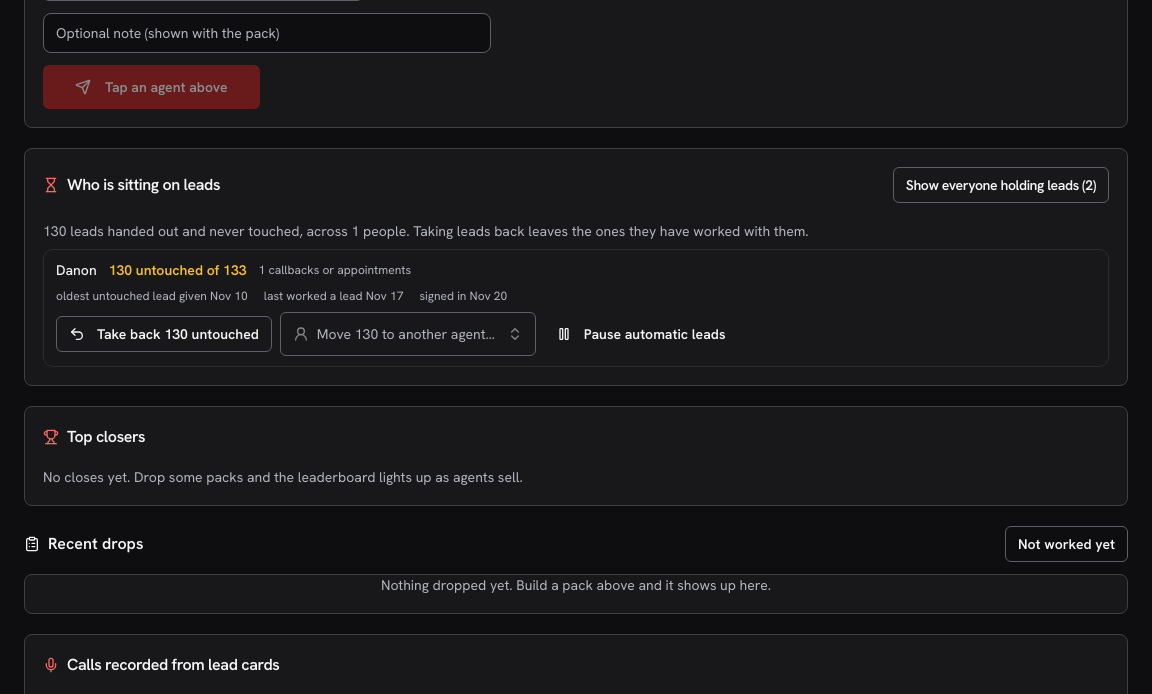
Lead Manager pools › lists who is sitting on untouched leads, worst first, and takes them back only after a second tap
(page scrolled)
Check: the number of elements with test id "holder-row" is 1, box [43,249,1109,367]
Check: the element with test id "holder-row" shows "Danon", box [56,261,97,279]
Click the button "Take back 130 untouched" at (164, 334), box [56,316,272,352]
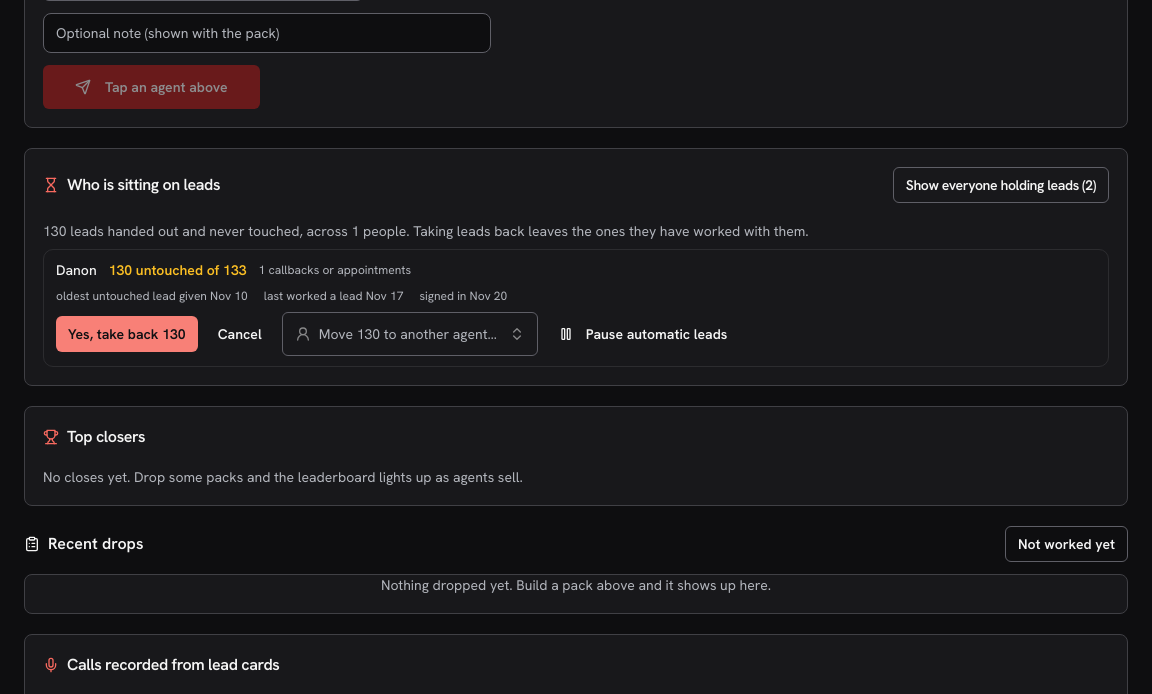
Click the button "Yes, take back 130" at (127, 334), box [56,316,198,352]
(page scrolled)
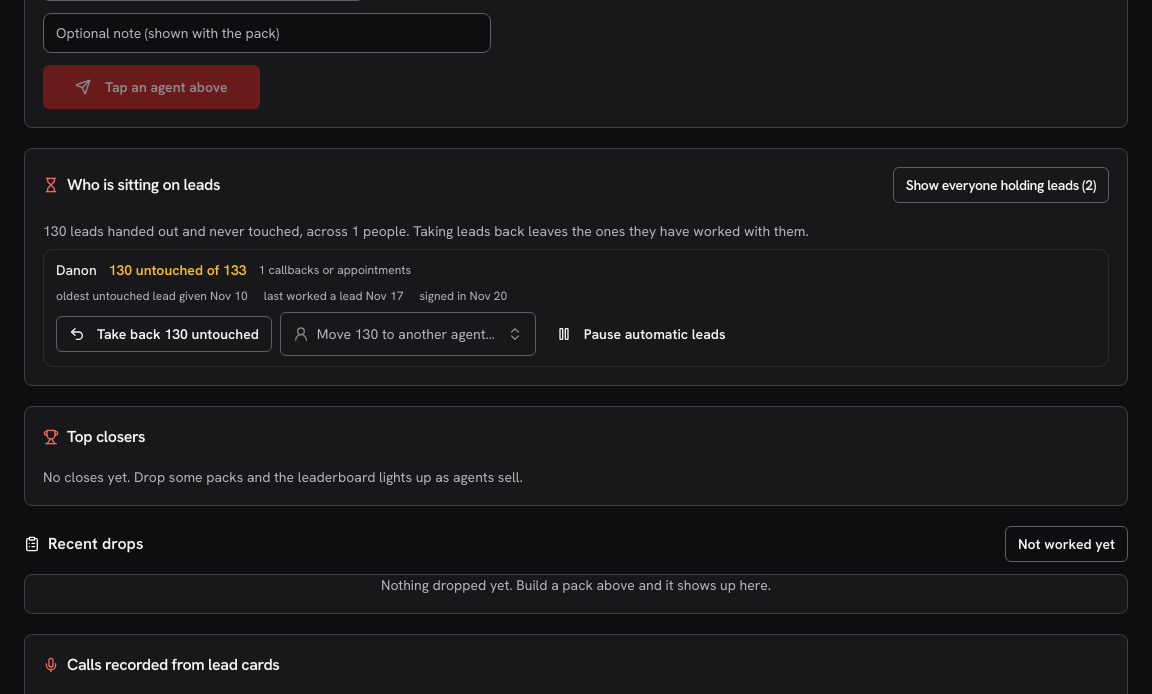
Click the button "Show everyone holding leads (2)" at (1001, 185), box [893,167,1109,203]
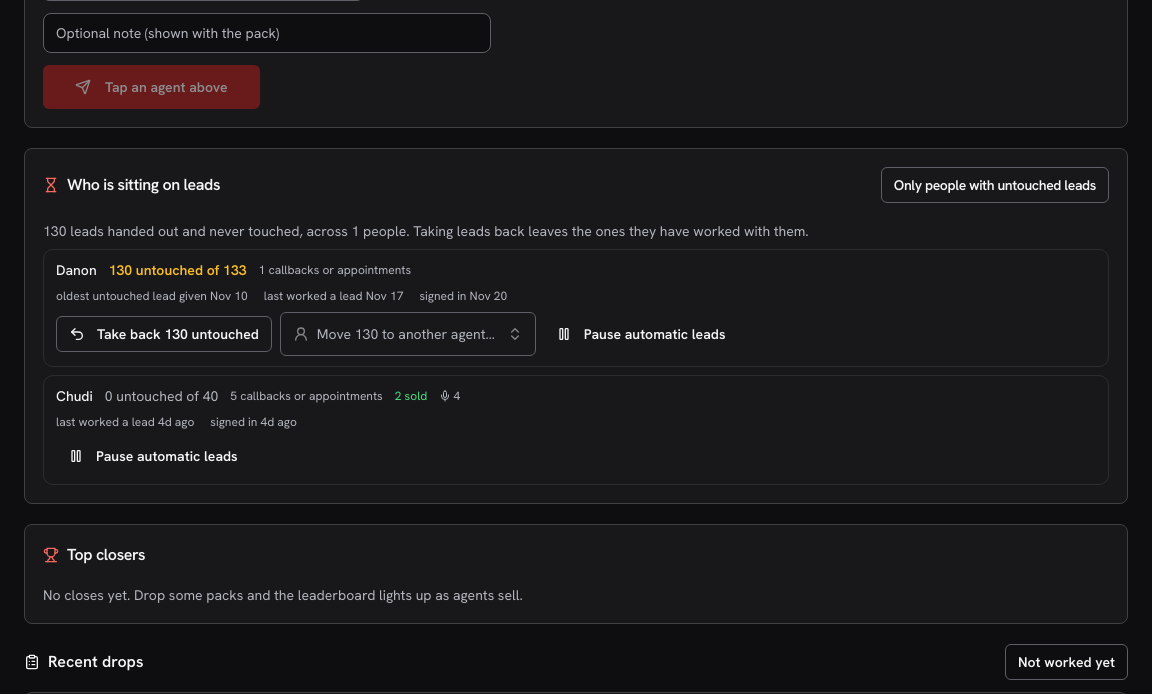
Check: the number of elements with test id "holder-row" is 2, box [43,249,1109,367]; [43,375,1109,485]
